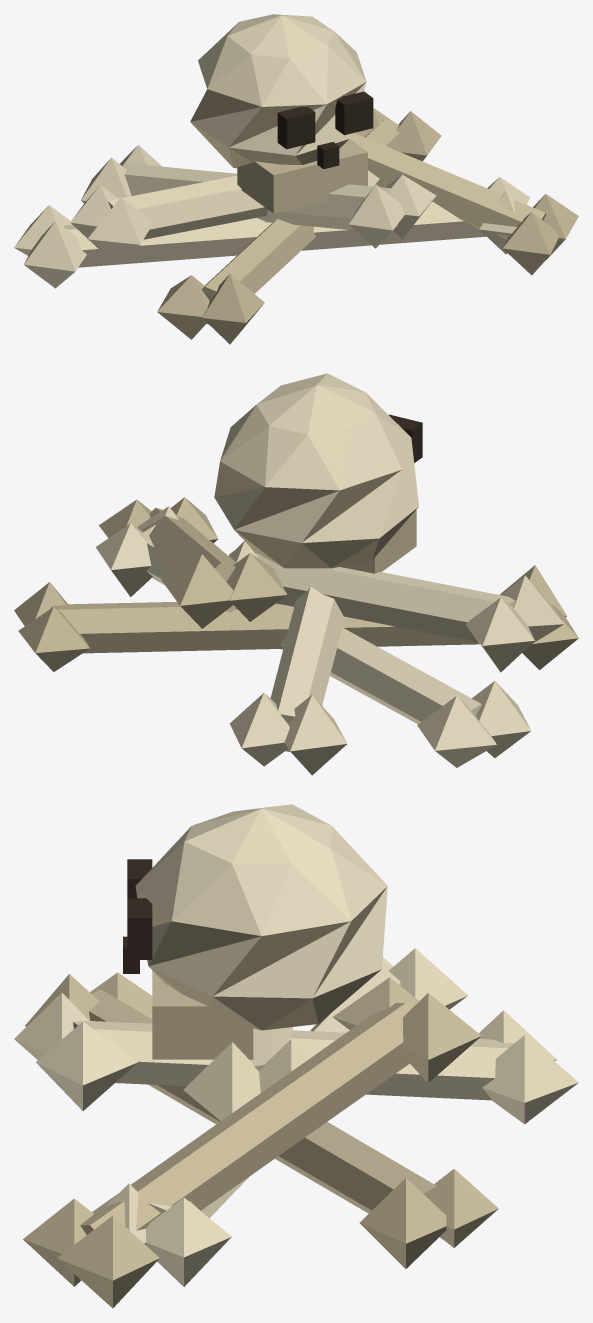
The model's file is bone_pile.glb.
3 views of the same model, one above another, from view 1: azimuth 30°, elevation 25°; view 2: azimuth 150°, elevation 25°; view 3: azimuth 270°, elevation 25° (orthographic). The views are drawn at different scales.
Visible parts, largest first — view 1: bone_pile2; view 2: bone_pile2; view 3: bone_pile2.
Boxes of the visible parts, x1=… form: bone_pile2: x1=14, y1=14, x2=578, y2=344; bone_pile2: x1=14, y1=373, x2=578, y2=775; bone_pile2: x1=14, y1=804, x2=578, y2=1308.
Size of the model in its own units: 1.78 by 0.938 by 1.34.
